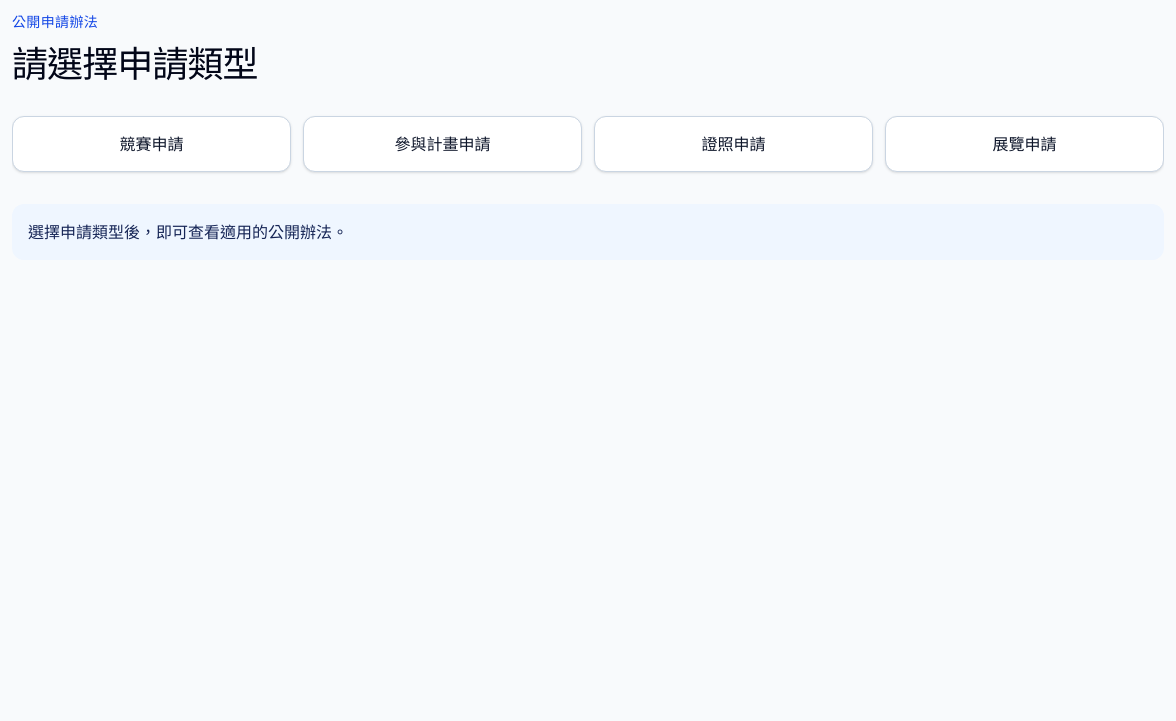
PublishedInstructionsPage › loads each type once, preserves section order, and switches years locally
Click the button "競賽申請" at coordinates (152, 144), box [12,116,291,172]
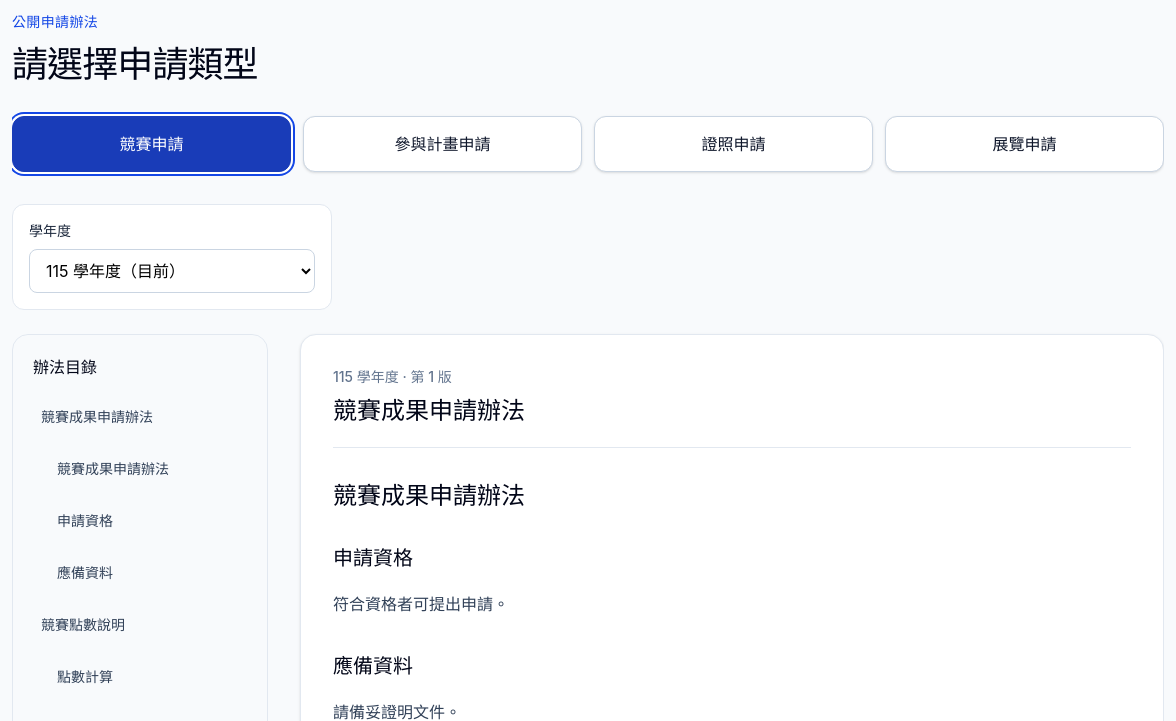
Check: the 1st link "競賽成果申請辦法" is shown, box [41,408,153,425]
Select "114 學年度" in the dropdown labelled "學年度" at coordinates (172, 271), box [29,249,315,293]
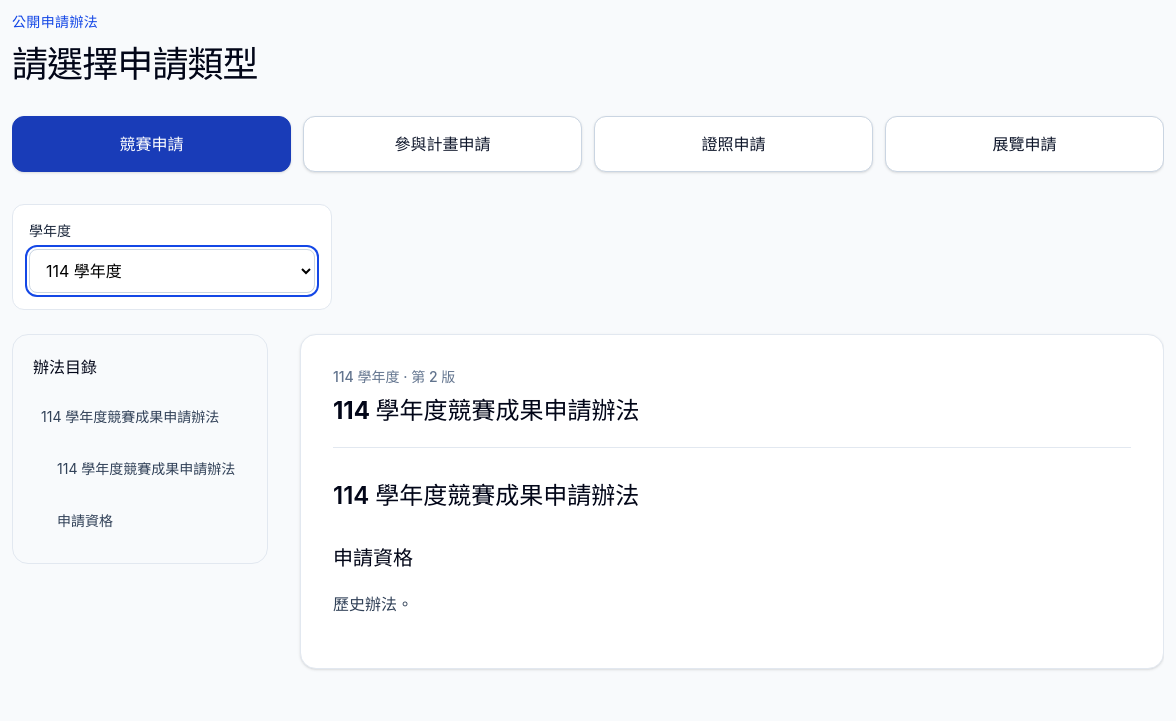
Check: the 1st link "114 學年度競賽成果申請辦法" is shown, box [41,408,219,425]
